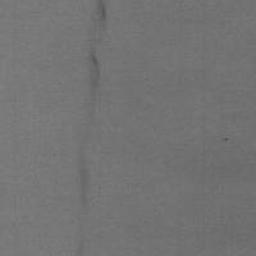Inclusion: (77, 0, 108, 212), (76, 233, 83, 256)
